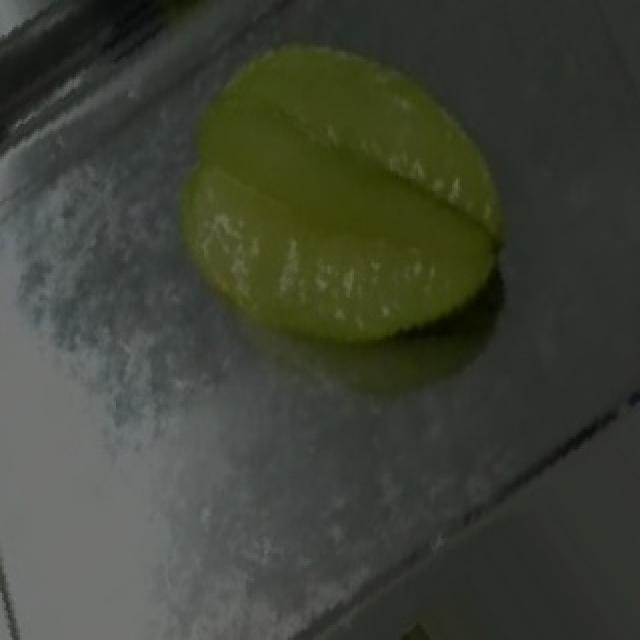fruit: (128, 0, 546, 419)
